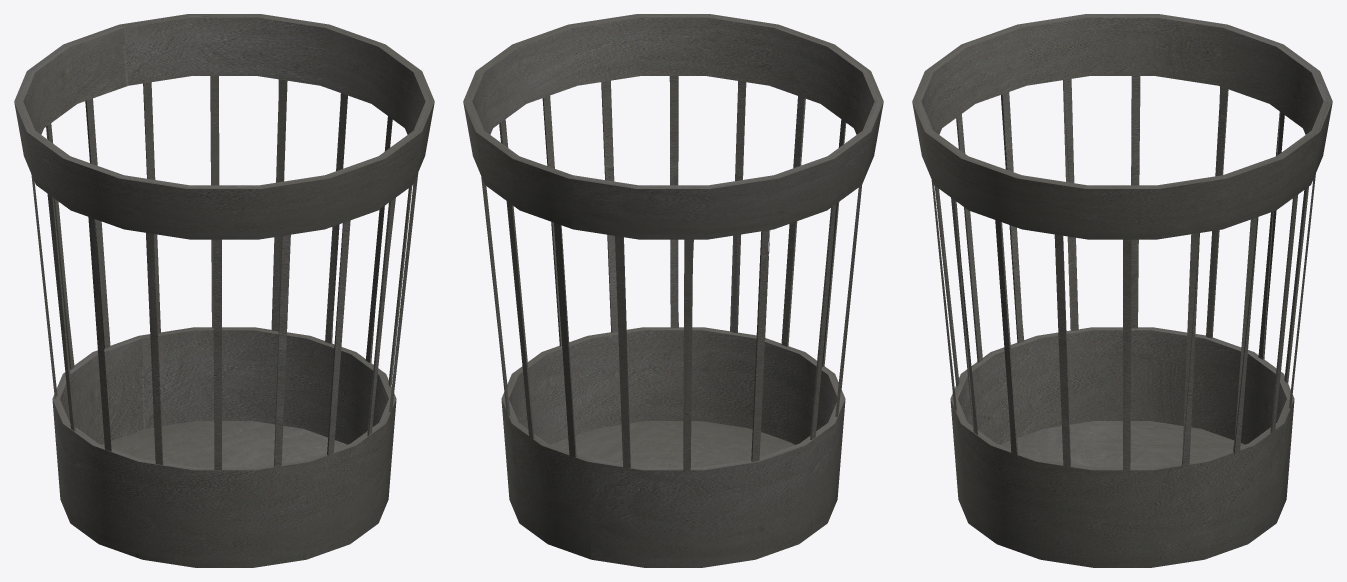
File: Bin.FBX
3 views of the same model, side by side, from view 1: azimuth 30°, elevation 25°; view 2: azimuth 150°, elevation 25°; view 3: azimuth 270°, elevation 25° (orthographic).
Visible parts, largest first — view 1: Bin; view 2: Bin; view 3: Bin.
Boxes of the visible parts, x1,y1,x2,y2 form: Bin: [14, 14, 434, 567]; Bin: [463, 14, 883, 567]; Bin: [912, 14, 1332, 567].
Bounding box in the file's own units: 38.91 × 41.26 × 39.51.
Materials: 1 (1 with a texture image).
